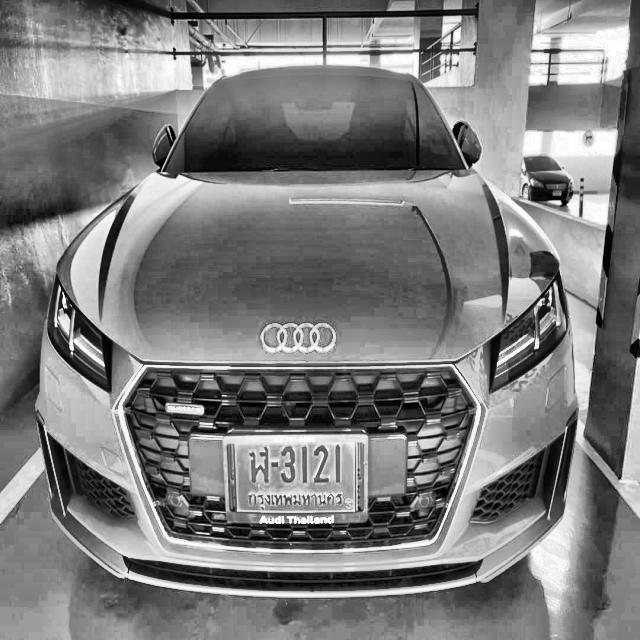license-plate: (220, 431, 370, 523)
